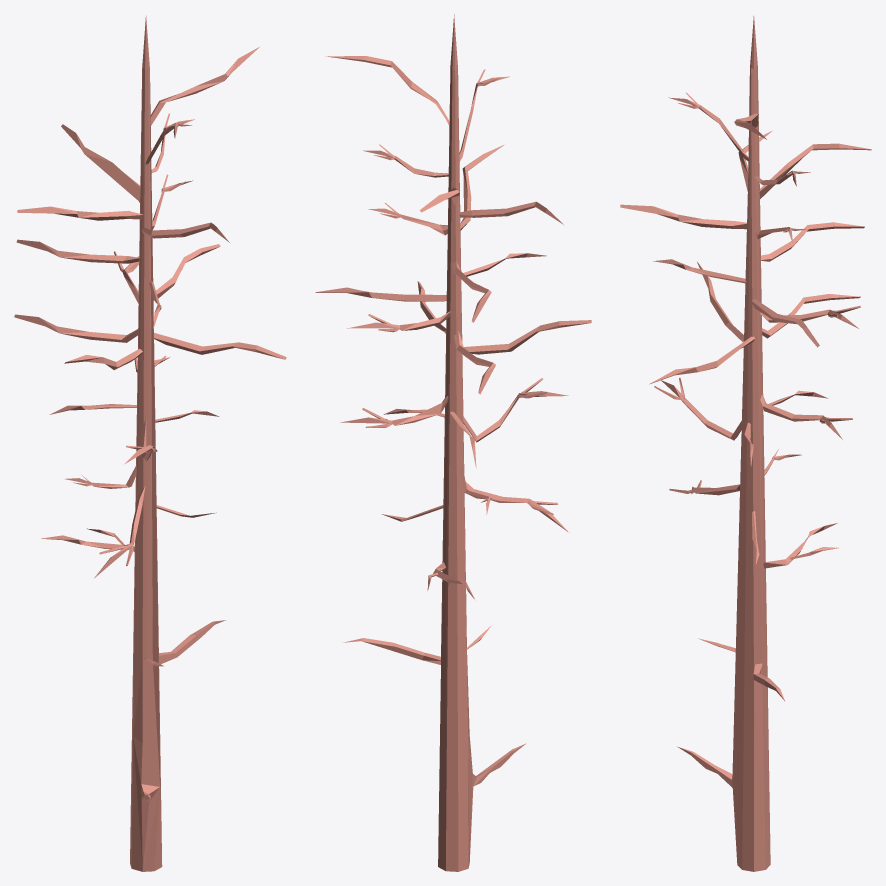
Rendered from Drzewo_bez_lisci.fbx.
3 renders of one model, left to right at view 1: azimuth 30°, elevation 25°; view 2: azimuth 150°, elevation 25°; view 3: azimuth 270°, elevation 25°, orthographic.
Visible parts, largest first — view 1: Drzewo_bez_lisci_LOD0; view 2: Drzewo_bez_lisci_LOD0; view 3: Drzewo_bez_lisci_LOD0.
Boxes of the visible parts, x1,y1,x2,y2 form: Drzewo_bez_lisci_LOD0: (14,15,286,871); Drzewo_bez_lisci_LOD0: (315,14,591,871); Drzewo_bez_lisci_LOD0: (620,16,871,871).
Size of what is drawn, in the model's own units: 215 by 722 by 194.
